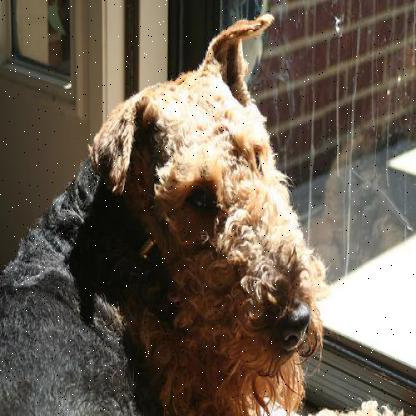dog: (64, 9, 327, 414)
